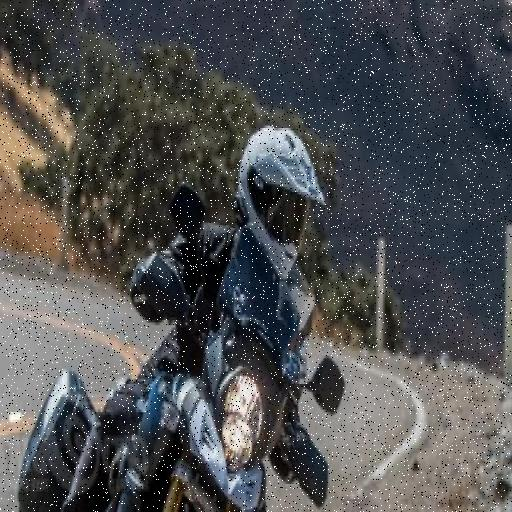Helmet: (233, 128, 322, 291)
Motor: (52, 285, 350, 512)
